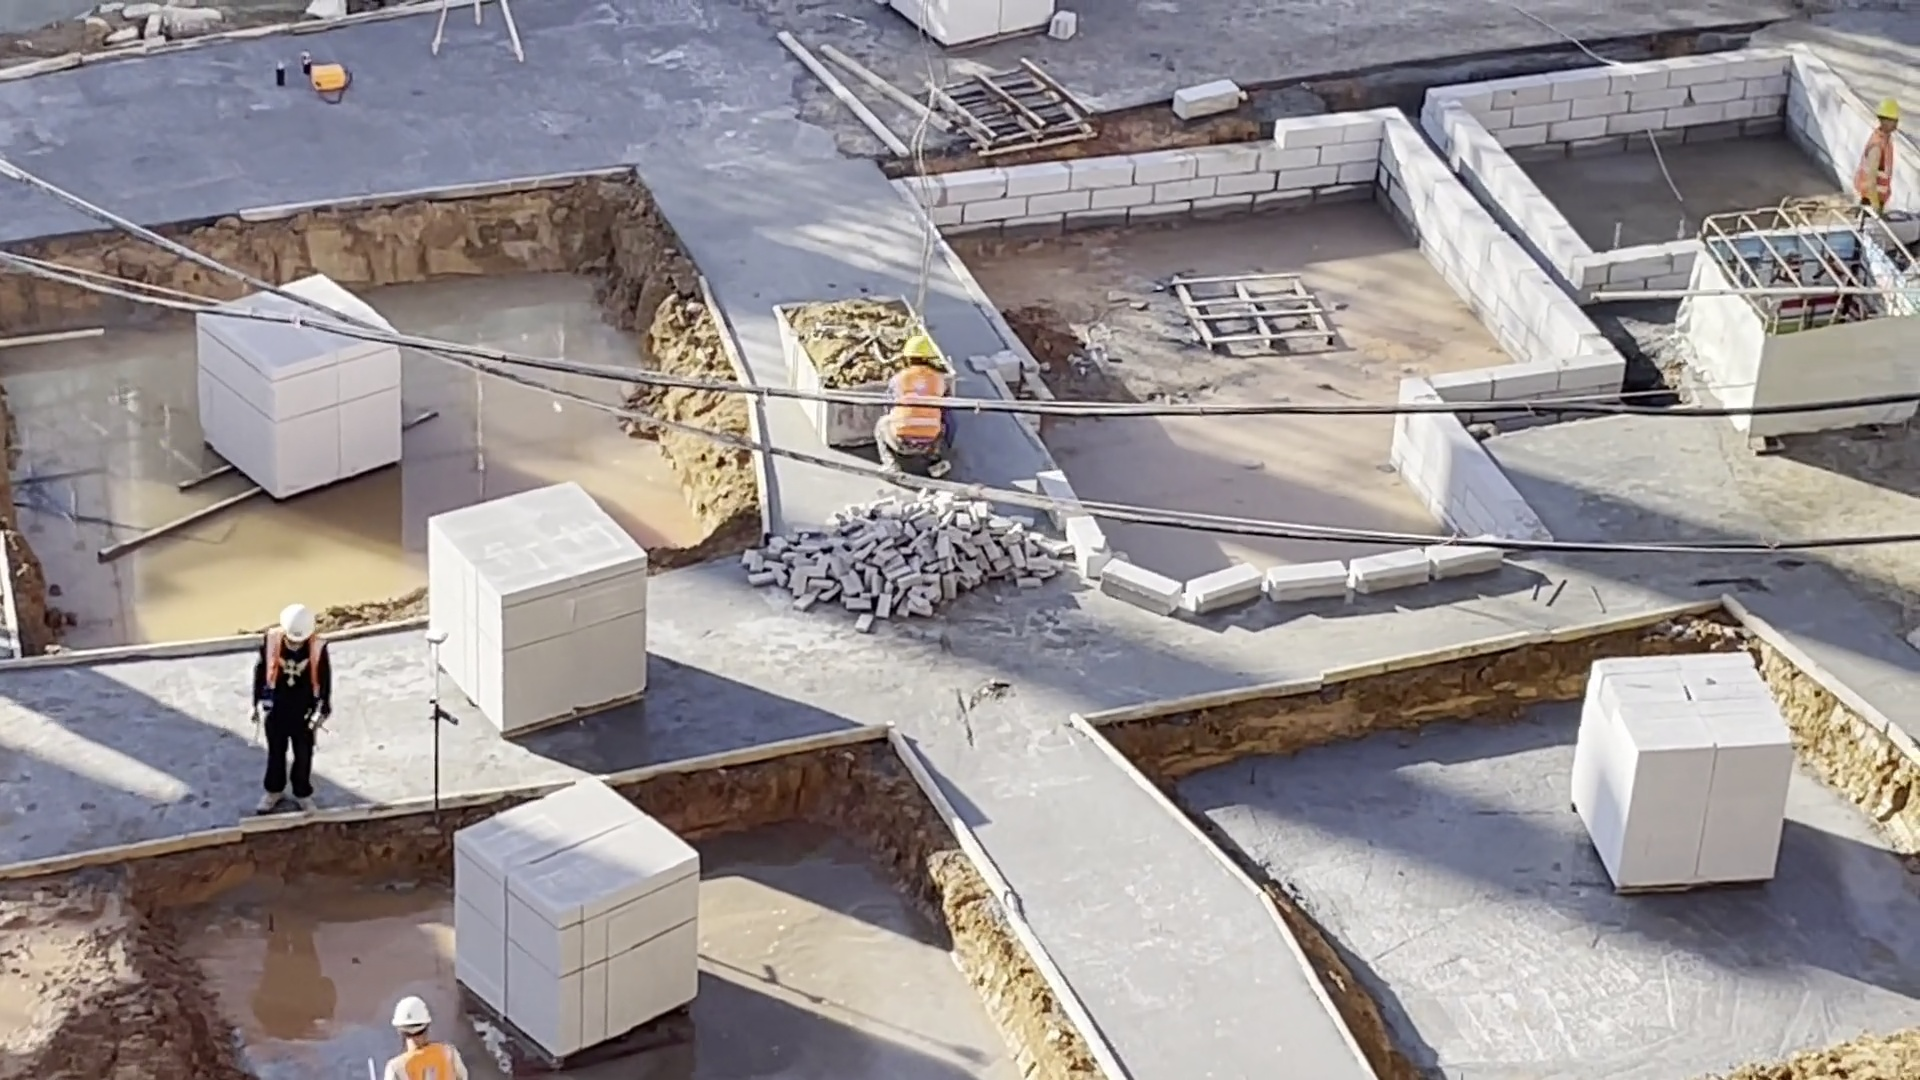brick: (441, 780, 705, 1057), (420, 478, 649, 735), (1564, 656, 1794, 897), (189, 358, 412, 500), (889, 4, 1082, 52)
helmet: (273, 602, 321, 645), (386, 994, 432, 1026), (897, 334, 943, 363), (1870, 98, 1901, 122)
hopper: (765, 294, 877, 385)
person: (244, 602, 348, 815), (864, 334, 960, 476), (363, 990, 486, 1080), (1854, 97, 1903, 212)
vest: (264, 630, 322, 695), (1856, 132, 1897, 201), (391, 1040, 458, 1080), (889, 404, 946, 440)
